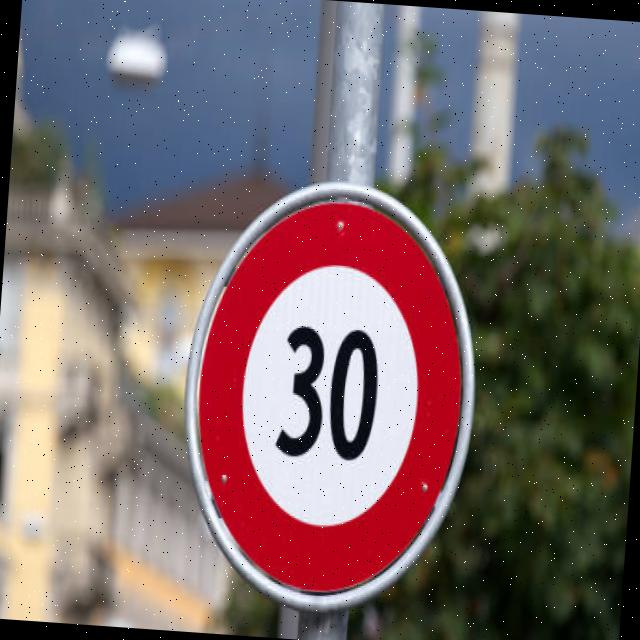speed_limit_30: (185, 185, 476, 604)
